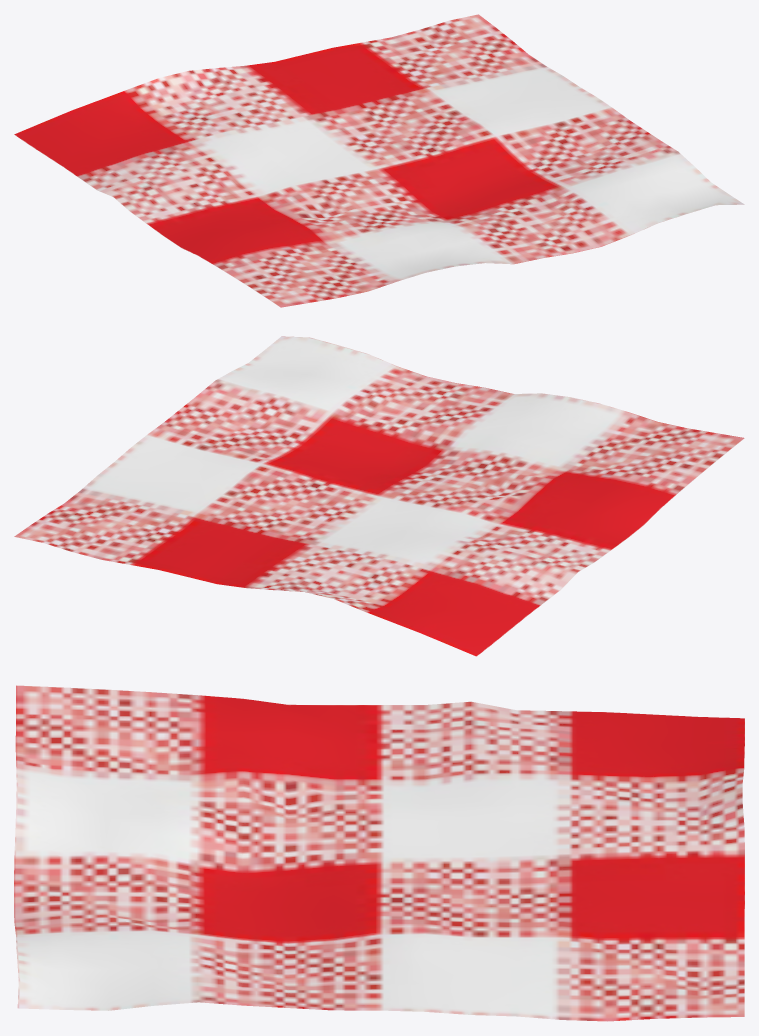
3 renders of one model, top to bottom at view 1: azimuth 30°, elevation 25°; view 2: azimuth 150°, elevation 25°; view 3: azimuth 270°, elevation 25°, orthographic. The views are drawn at different scales.
Parts seen in each view (by area): view 1: Mat; view 2: Mat; view 3: Mat.
Part boxes in pixels (x1,y1,x2,y2): Mat: (14,14,744,307); Mat: (14,336,744,656); Mat: (14,685,744,1021).
Size of the model in its own units: 800 by 38.57 by 800.
Materials: 1 (1 with a texture image).
